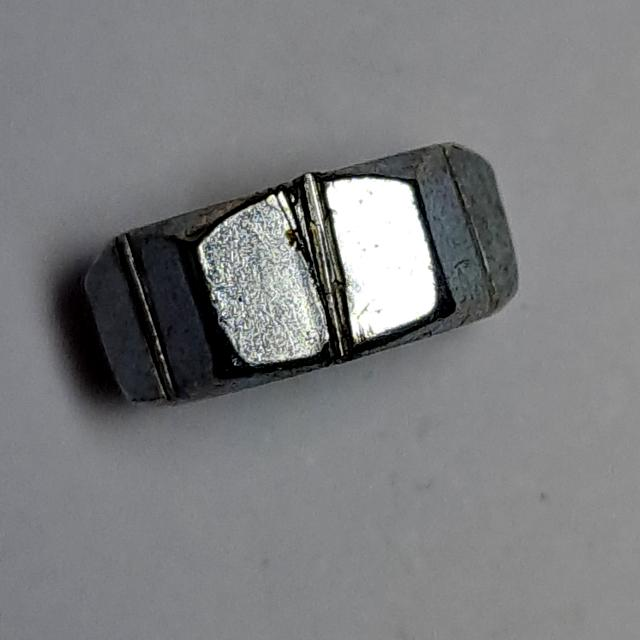Side_Scratches: (76, 130, 530, 418)
